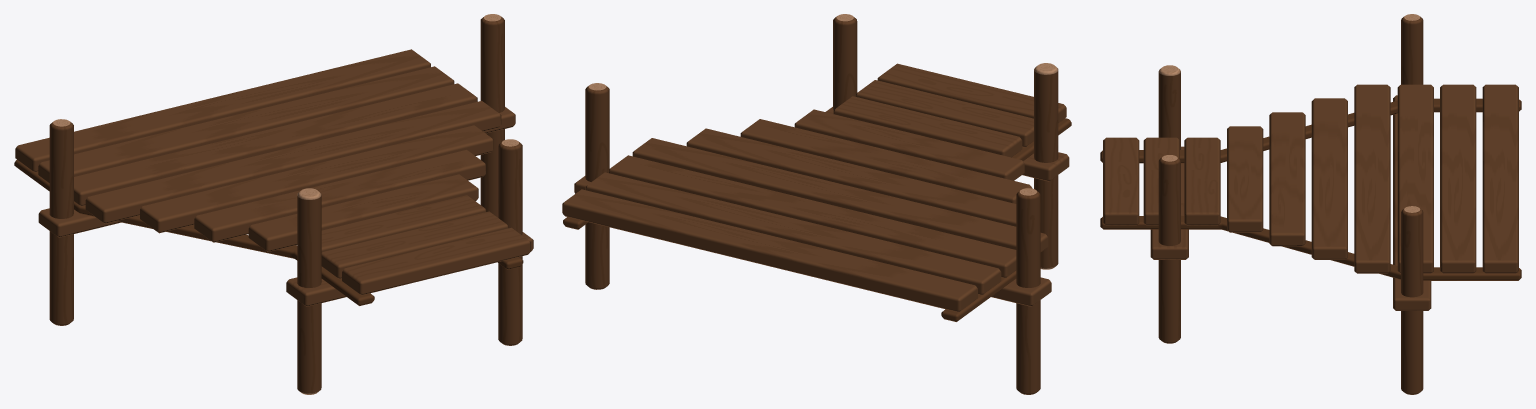
The model's file is M_Switch.fbx.
3 views of the same model, side by side, from view 1: azimuth 30°, elevation 25°; view 2: azimuth 150°, elevation 25°; view 3: azimuth 270°, elevation 25° (orthographic). The views are drawn at different scales.
Parts seen in each view (by area): view 1: M_Switch; view 2: M_Switch; view 3: M_Switch.
Boxes of the visible parts, <box> form: M_Switch: <box>14,14,533,394</box>; M_Switch: <box>562,14,1071,394</box>; M_Switch: <box>1100,14,1521,394</box>.
Size of the model in its own units: 800 by 332 by 695.
